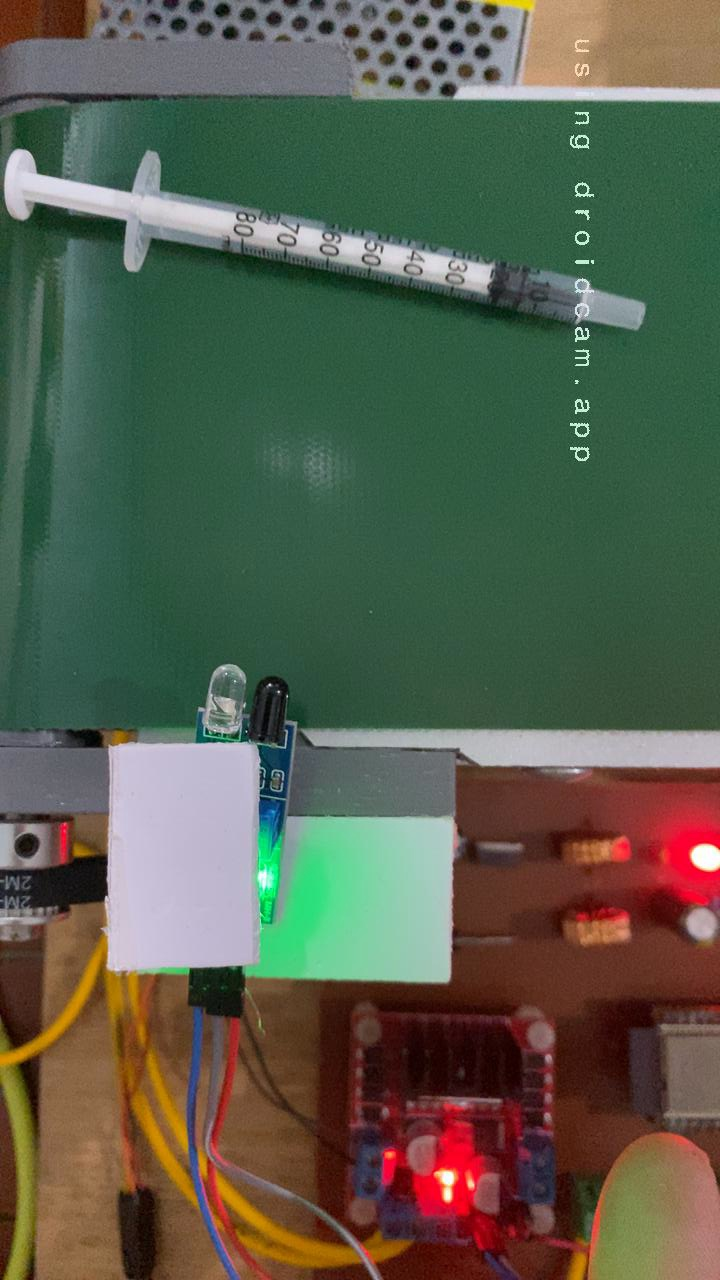syringe: (0, 142, 653, 332)
